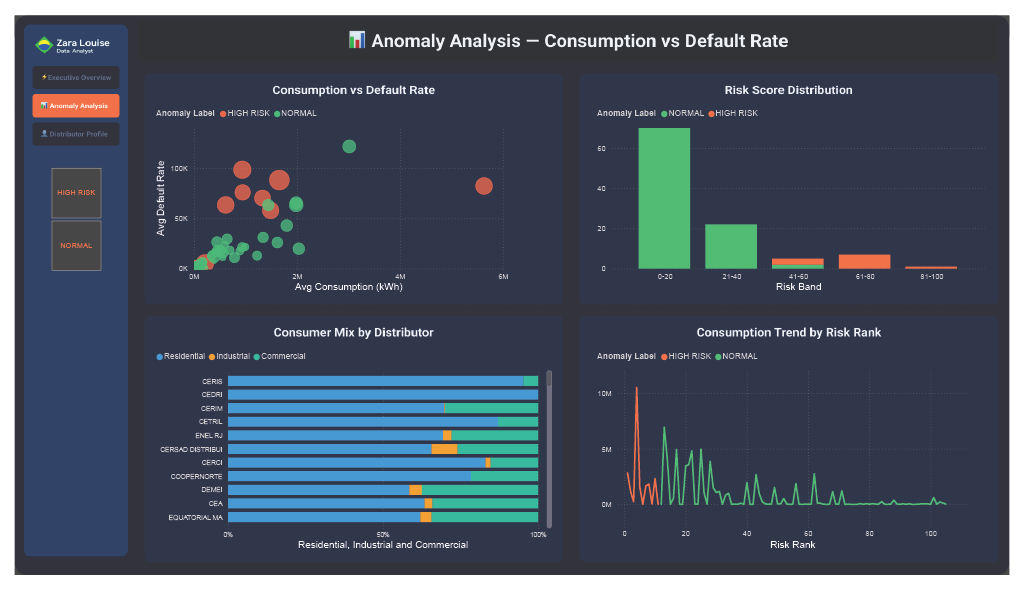

The page's visual inventory and layout, read from the dashboard file:
{"tool":"powerbi","page":{"name":"Anomaly Analysis","canvas":[1600,900],"ordinal":1},"visuals":[{"type":"scatterChart","title":"Consumption vs Default Rate by Distributor","fields":{"X":["Sum(Features.avg_consumption_kwh)"],"Y":["Sum(Features.avg_default_rate)"],"Series":["Risk Scores.anomaly_label"],"Category":["Risk Scores.distributor_code"],"Size":["Sum(Risk Scores.risk_score)"]},"box":[221.7,138.3,578.3,311.7],"z":0},{"type":"hundredPercentStackedBarChart","title":"Consumer Mix by Distributor (Residential / Industrial / Commercial)","fields":{"Category":["Features.distributor_code"],"Y":["Sum(Features.pct_residential)","Sum(Features.pct_industrial)","Sum(Features.pct_commercial)"]},"box":[222,528.7,646.7,336.7],"z":1000},{"type":"slicer","fields":{"Values":["Risk Scores.anomaly_label"]},"box":[33.3,238.3,130,178.3],"z":3000},{"type":"columnChart","title":"Risk Score Distribution","fields":{"Category":["Risk Scores.Risk Band"],"Y":["CountNonNull(Risk Scores.distributor_code)"],"Series":["Risk Scores.anomaly_label"]},"box":[931.7,138.3,635,311.7],"z":4000},{"type":"lineChart","title":"Consumption Trend by Risk Rank","fields":{"Category":["Risk Scores.risk_rank"],"Y":["Avg(Features.consumption_trend)"],"Series":["Risk Scores.anomaly_label"]},"box":[932,528.7,606.7,336.7],"z":5000},{"type":"actionButton","box":[25.8,80.5,146.1,39.8],"z":5001},{"type":"actionButton","box":[25.8,172.7,146.1,39.8],"z":5002}]}

Visuals, with their boxes on the page's 1600x900 design canvas (x1, y1, x2, y2). These are canvas units, not pixel positions in the 1024x590 screenshot, which may show the page scaled, cropped or inside an application window:
"Consumption vs Default Rate by Distributor" scatterChart: [222,138,800,450]
"Consumer Mix by Distributor (Residential / Industrial / Commercial)" hundredPercentStackedBarChart: [222,529,869,865]
slicer - Risk Scores.anomaly_label: [33,238,163,417]
"Risk Score Distribution" columnChart: [932,138,1567,450]
"Consumption Trend by Risk Rank" lineChart: [932,529,1539,865]
actionButton: [26,80,172,120]
actionButton: [26,173,172,212]
